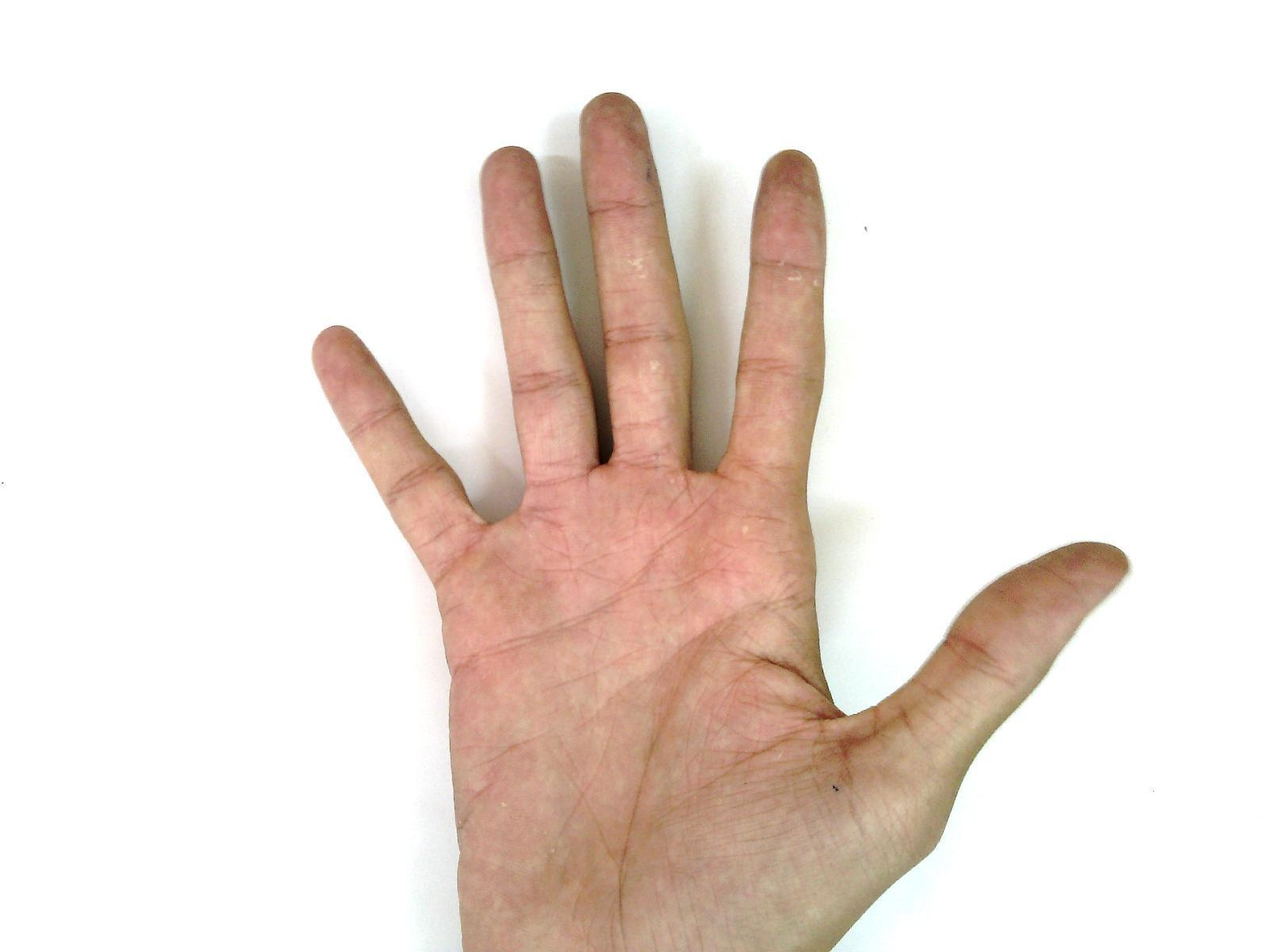open_palm: (308, 90, 1133, 951)
